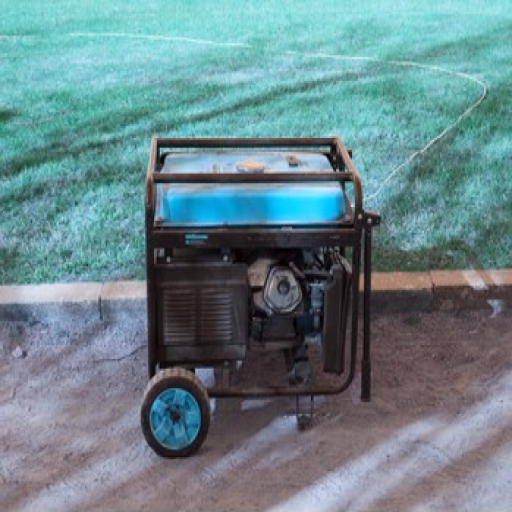portable_generator: (146, 137, 364, 398)
